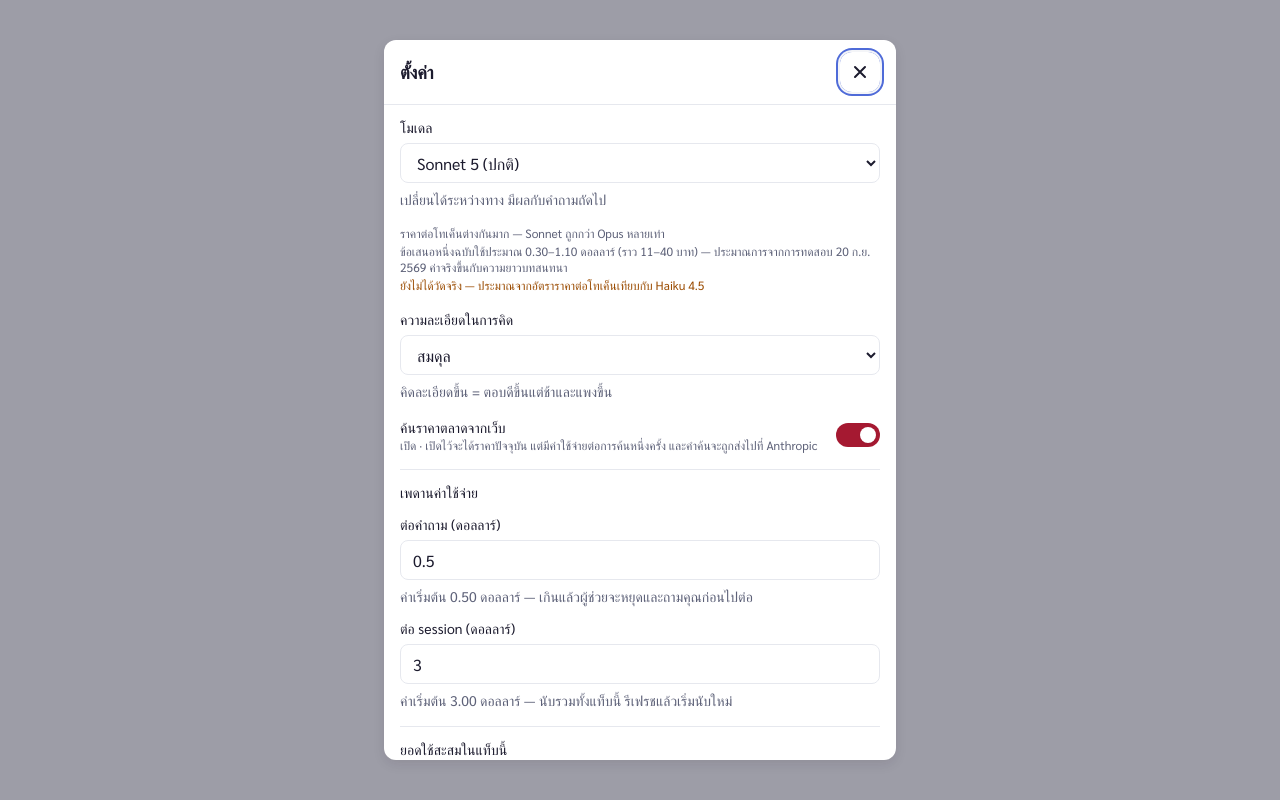
Test: SettingsDialog (06 §4.6) › แสดง effort เมื่อโมเดลรองรับ และซ่อนเมื่อเปลี่ยนไปโมเดลที่ไม่รองรับ (Haiku 4.5)
expect the dropdown labelled "ความละเอียดในการคิด" is shown: met, box x1=400 y1=335 x2=880 y2=375
Select "Haiku 4.5 (ประหยัด)" in the dropdown labelled "โมเดล" at (640, 163), box x1=400 y1=143 x2=880 y2=183
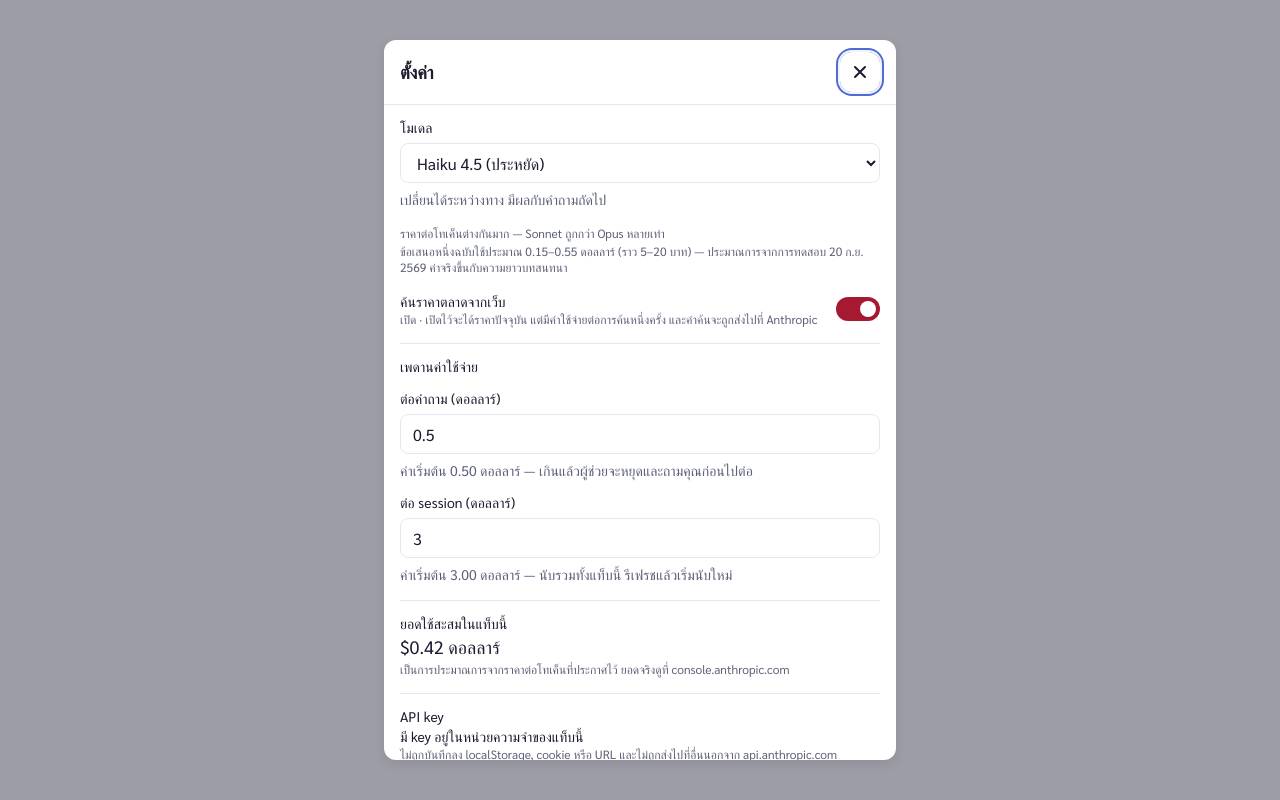
expect the label labelled "ความละเอียดในการคิด" is gone: met
